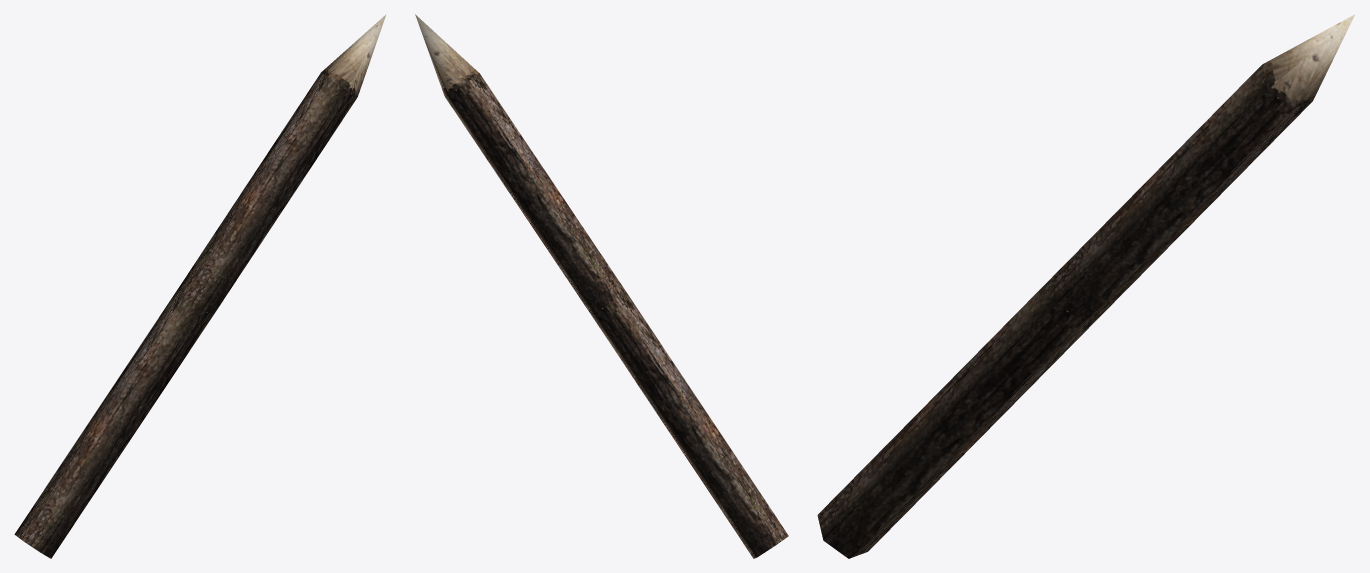
The model's file is palisade_angle_spike.dae.
3 renders of one model, left to right at view 1: azimuth 30°, elevation 25°; view 2: azimuth 150°, elevation 25°; view 3: azimuth 330°, elevation 25°, orthographic. The views are drawn at different scales.
Visible parts, largest first — view 1: AngleSpike; view 2: AngleSpike; view 3: AngleSpike.
Boxes of the visible parts, <box> form: AngleSpike: <box>14,14,386,558</box>; AngleSpike: <box>415,14,788,558</box>; AngleSpike: <box>817,14,1354,558</box>.
Bounding box in the file's own units: 5.77 × 0.6092 × 6.85.
